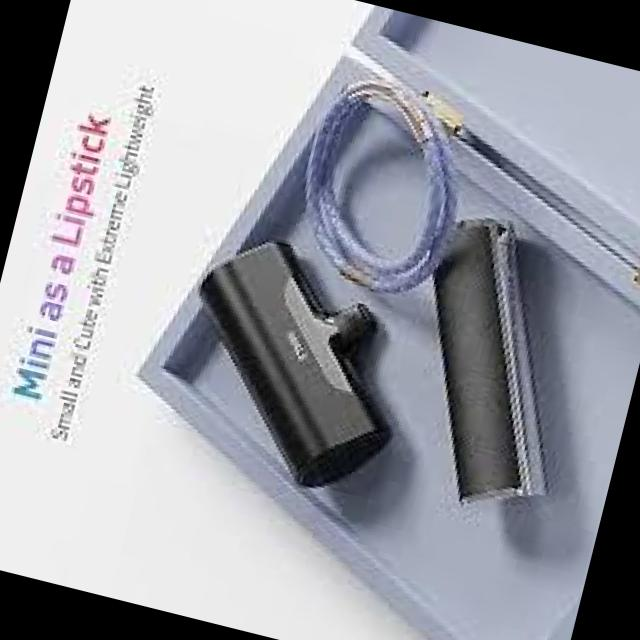power_bank: (158, 220, 434, 509), (370, 202, 610, 524)
